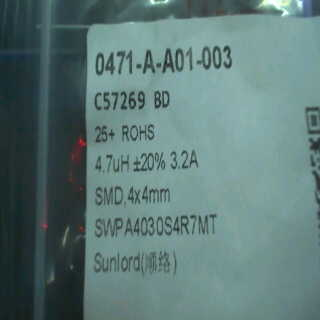4.7uH: (89, 148, 132, 178)
